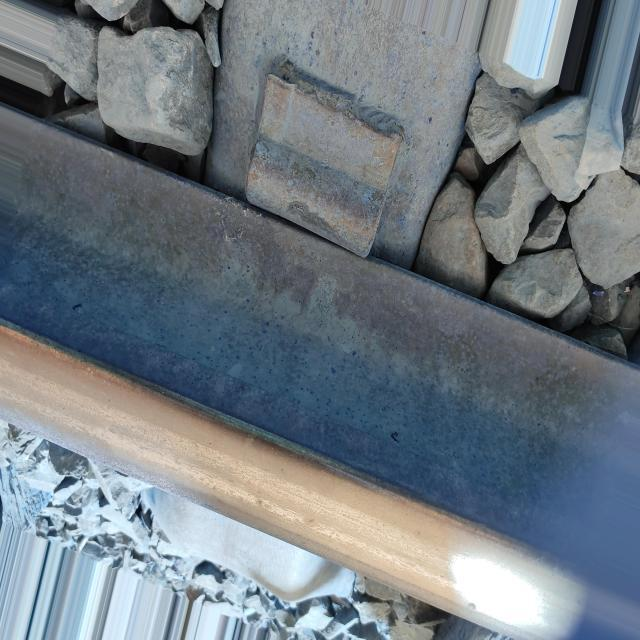Missing Fastener: (205, 0, 480, 270)
